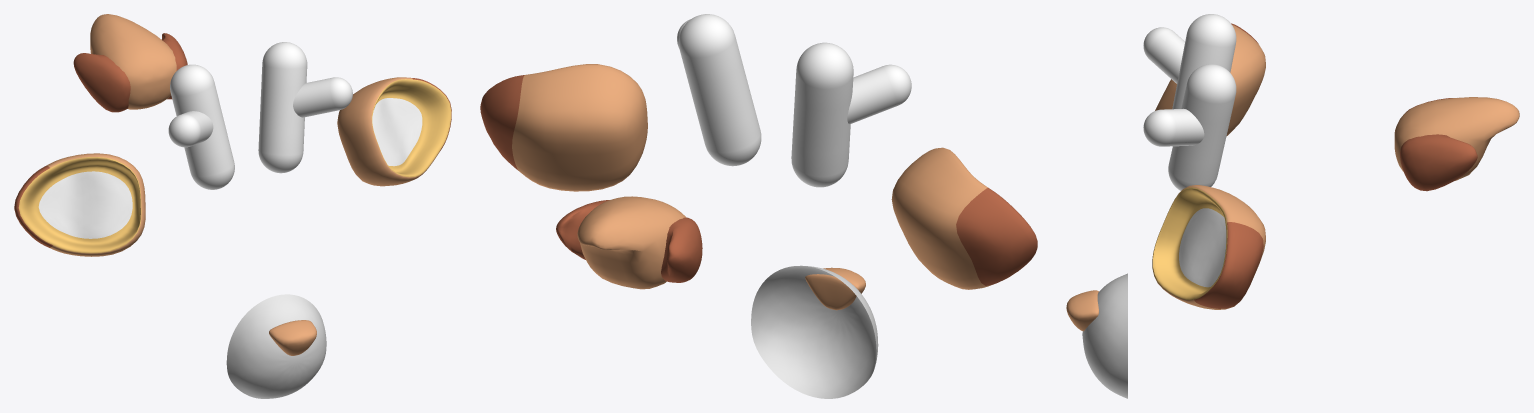
File: CarBodyOther.fbx
3 views of the same model, side by side, from view 1: azimuth 30°, elevation 25°; view 2: azimuth 150°, elevation 25°; view 3: azimuth 270°, elevation 25° (orthographic). The views are drawn at different scales.
Visible parts, largest first — view 1: 鹿角.001, 耳朵-PBR, 耳朵-Tyre, 鼻子2, 內, 耳朵-PBR.5, 外, 鼻子1, 耳朵-PBR.8; view 2: 耳朵-PBR.5, 鹿角.001, 鼻子2, 耳朵-PBR.8, 內, 外, 鼻子1; view 3: 鹿角.001, 內, 耳朵-PBR.5, 鼻子2, 耳朵-PBR, 外, 耳朵-PBR.8, 耳朵-Tyre, 鼻子1.
Boxes of the visible parts, x1,y1,x2,y2 form: 鹿角.001: (168, 42, 352, 189); 耳朵-PBR: (18, 79, 451, 253); 耳朵-Tyre: (38, 98, 422, 238); 鼻子2: (226, 294, 326, 398); 內: (90, 14, 176, 109); 耳朵-PBR.5: (47, 77, 439, 256); 外: (73, 33, 187, 112); 鼻子1: (269, 320, 316, 355); 耳朵-PBR.8: (14, 78, 451, 247); 耳朵-PBR.5: (512, 64, 991, 289); 鹿角.001: (677, 14, 911, 187); 鼻子2: (751, 265, 878, 398); 耳朵-PBR.8: (480, 75, 1037, 285); 內: (577, 196, 685, 289); 外: (556, 200, 702, 282); 鼻子1: (805, 267, 865, 310); 鹿角.001: (1143, 14, 1236, 190); 內: (1394, 97, 1519, 180); 耳朵-PBR.5: (1153, 25, 1265, 309); 鼻子2: (1082, 273, 1127, 398); 耳朵-PBR: (1152, 187, 1227, 300); 外: (1400, 98, 1477, 191); 耳朵-PBR.8: (1194, 23, 1263, 308); 耳朵-Tyre: (1179, 208, 1226, 287); 鼻子1: (1066, 290, 1098, 331).
Bounding box in the file's own units: 211529 × 146561 × 171283.
